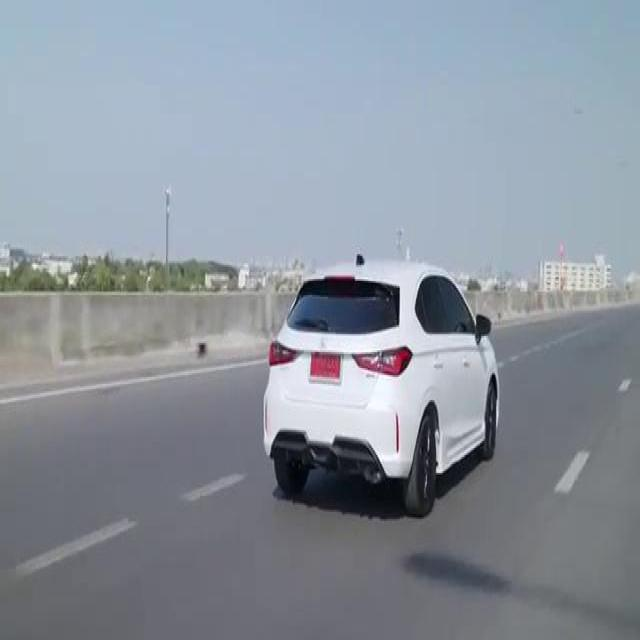Hatchback: (263, 254, 499, 516)
